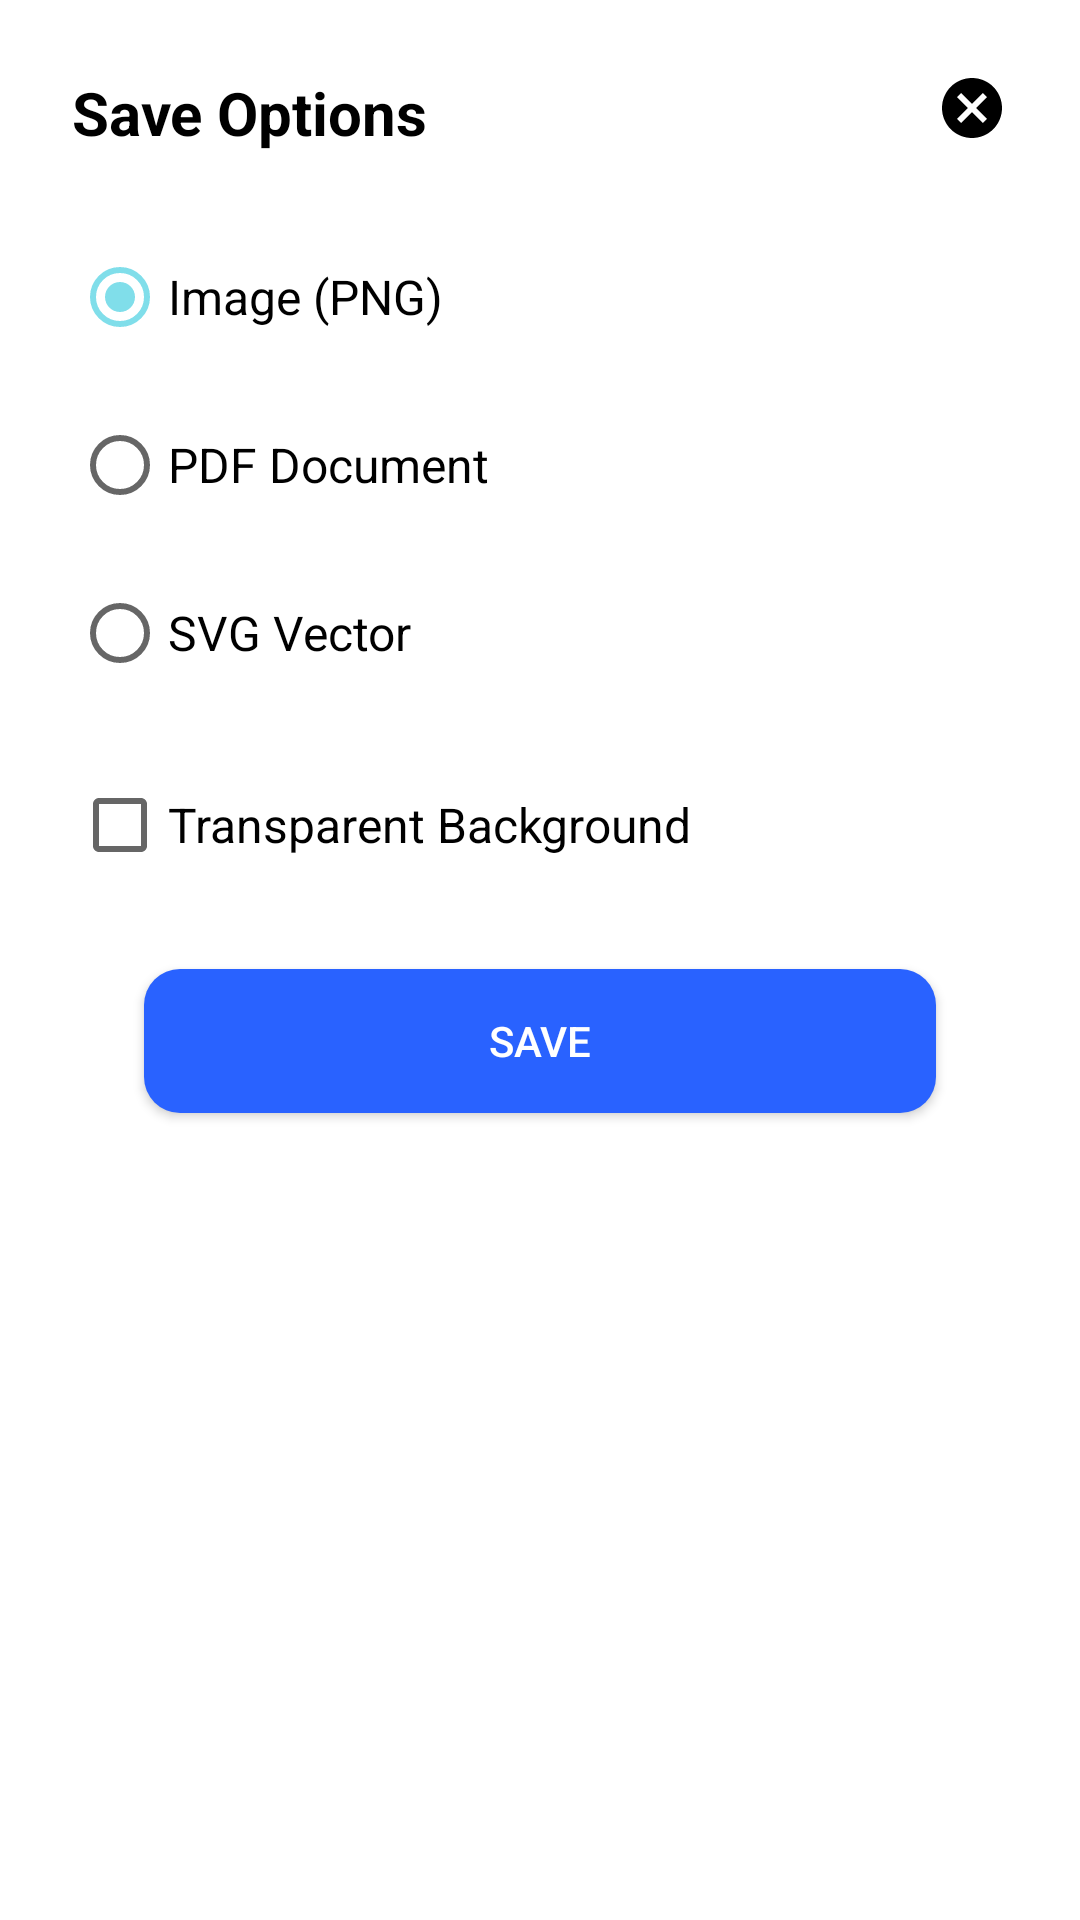

Screen size 1080w x 1920h. Icon name, then its center in pixels as [x,y]:
Cancel: [972,108]
